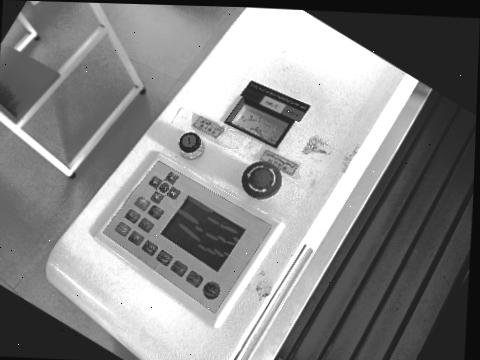Amp_Meter: (225, 97, 295, 147)
Display: (161, 196, 247, 272)
Down_button: (150, 192, 164, 204)
Emergency_Stop: (242, 161, 282, 199)
Enter_button: (135, 196, 150, 211)
Esc_button: (148, 205, 164, 219)
File_button: (128, 231, 144, 246)
Frame_button: (125, 209, 140, 223)
Left_button: (167, 187, 181, 200)
Max-Power_button: (142, 240, 158, 256)
Min-Power_button: (156, 250, 173, 266)
Origin_button: (138, 218, 154, 232)
Power_switch: (179, 132, 204, 159)
Pulse_button: (186, 271, 204, 288)
Reset_button: (203, 282, 220, 299)
Right_button: (149, 177, 162, 188)
Speed_button: (171, 260, 188, 276)
Start-Pause_button: (115, 222, 131, 236)
Up_button: (165, 172, 178, 184)
Z_U_button: (159, 183, 170, 193)
